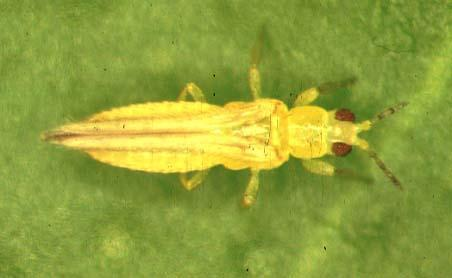Thrips: (43, 85, 410, 201)
